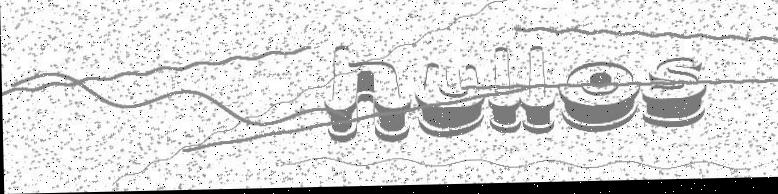h: (324, 46, 410, 144)
l: (519, 49, 555, 137), (488, 51, 521, 137)
o: (560, 65, 640, 134)
s: (641, 61, 706, 132)
u: (414, 64, 485, 140)
